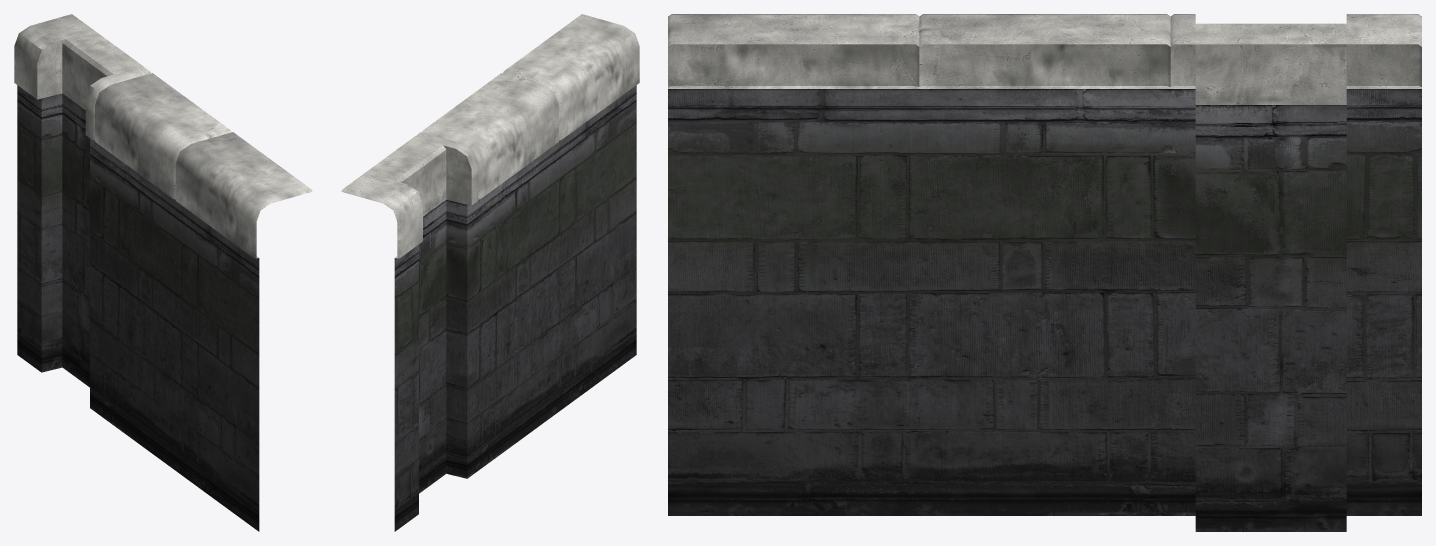
File: SM_Banchina_Mod4m_Nicchia_LOD1.fbx
3 renders of one model, left to right at view 1: azimuth 30°, elevation 25°; view 2: azimuth 150°, elevation 25°; view 3: azimuth 270°, elevation 25°, orthographic. The views are drawn at different scales.
Parts seen in each view (by area): view 1: SM_Banchina_Mod4m_Nicchia_LOD1; view 2: SM_Banchina_Mod4m_Nicchia_LOD1; view 3: SM_Banchina_Mod4m_Nicchia_LOD1.
Part boxes in pixels (x1,y1,x2,y2): SM_Banchina_Mod4m_Nicchia_LOD1: (14, 14, 312, 531); SM_Banchina_Mod4m_Nicchia_LOD1: (341, 14, 639, 531); SM_Banchina_Mod4m_Nicchia_LOD1: (668, 14, 1421, 531).
Bounding box in the file's own units: 55 × 400 × 300.
Materials: 2 (2 with a texture image).
